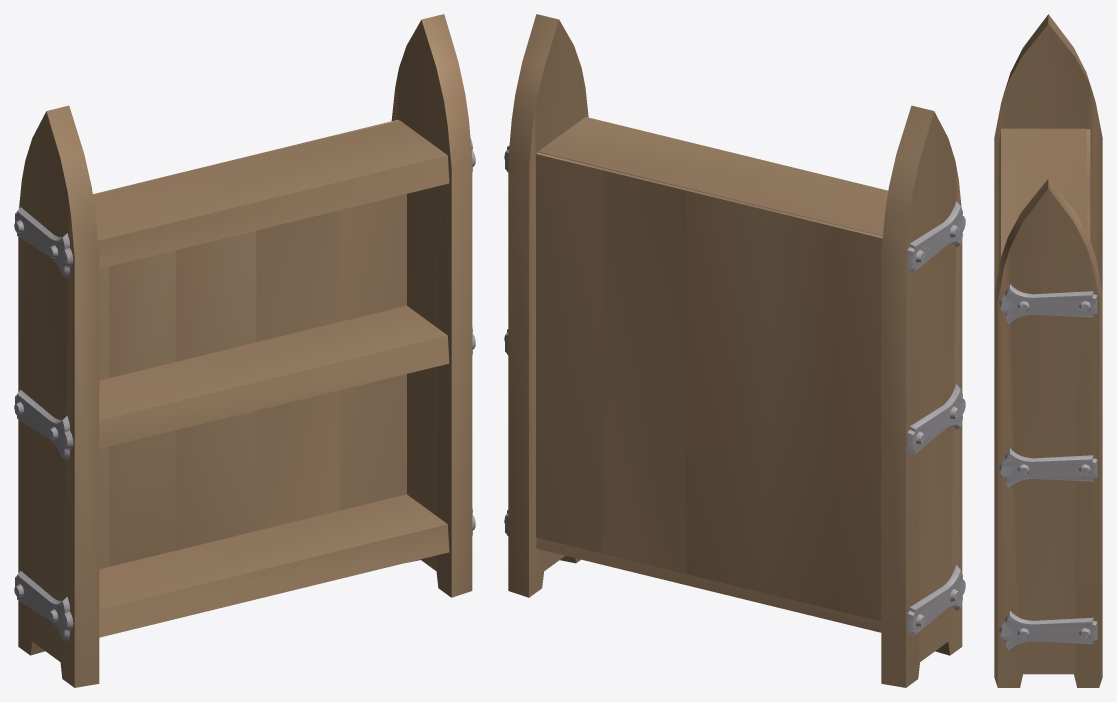
The model's file is Shelf_Arch.glb.
3 renders of one model, left to right at view 1: azimuth 30°, elevation 25°; view 2: azimuth 150°, elevation 25°; view 3: azimuth 270°, elevation 25°, orthographic. The views are drawn at different scales.
Visible parts, largest first — view 1: Shelf_Arch_55964f, Shelf_Arch_82c497; view 2: Shelf_Arch_55964f, Shelf_Arch_82c497; view 3: Shelf_Arch_55964f, Shelf_Arch_82c497.
Part boxes in pixels (<box>): Shelf_Arch_55964f: <box>18,14,472,687</box>; Shelf_Arch_82c497: <box>14,138,475,642</box>; Shelf_Arch_55964f: <box>508,14,962,687</box>; Shelf_Arch_82c497: <box>504,145,965,636</box>; Shelf_Arch_55964f: <box>994,14,1102,687</box>; Shelf_Arch_82c497: <box>999,284,1097,651</box>.
Size of the model in its own units: 1.25 by 1.59 by 0.3116.
